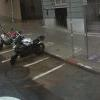Motorcycle: (8, 29, 47, 68)
